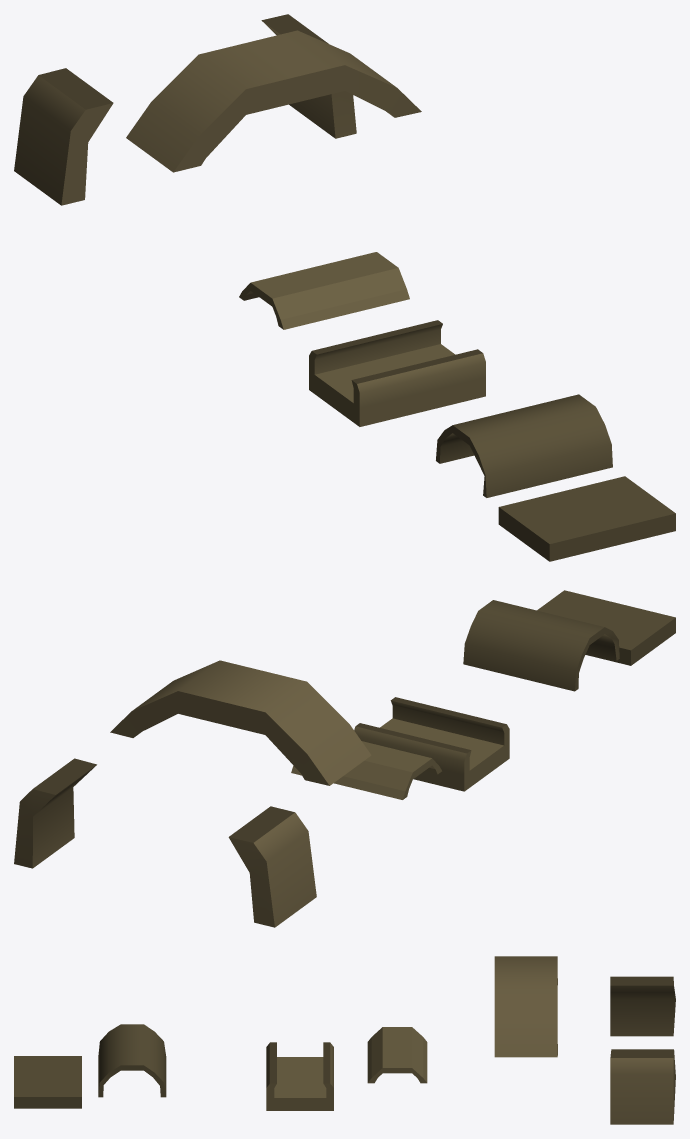
The model's file is TUNNELS10001.fbx.
3 renders of one model, top to bottom at view 1: azimuth 30°, elevation 25°; view 2: azimuth 150°, elevation 25°; view 3: azimuth 270°, elevation 25°, orthographic. The views are drawn at different scales.
Visible parts, largest first — view 1: roof, pasted__Tunnel6, tunnel, pasted__pCube19, pasted__pCube20, pasted__Tunnel5; view 2: roof, tunnel, pasted__pCube19, pasted__Tunnel6, pasted__pCube20, pasted__Tunnel5; view 3: tunnel, roof, pasted__Tunnel6, pasted__pCube20, pasted__pCube19, pasted__Tunnel5.
Part boxes in pixels (x1,y1,x2,y2): roof: (126, 30, 421, 172); pasted__Tunnel6: (309, 320, 485, 426); tunnel: (14, 14, 356, 205); pasted__pCube19: (436, 394, 612, 497); pasted__pCube20: (498, 476, 675, 561); pasted__Tunnel5: (239, 252, 409, 329); roof: (110, 660, 371, 785); tunnel: (14, 758, 316, 927); pasted__pCube19: (463, 600, 619, 691); pasted__Tunnel6: (354, 697, 509, 791); pasted__pCube20: (537, 590, 675, 665); pasted__Tunnel5: (291, 741, 441, 799); tunnel: (610, 976, 675, 1124); roof: (494, 956, 557, 1057); pasted__Tunnel6: (266, 1042, 333, 1110); pasted__pCube20: (14, 1056, 81, 1108); pasted__pCube19: (98, 1024, 166, 1097); pasted__Tunnel5: (367, 1027, 427, 1083).
Bounding box in the file's own units: 17.54 × 11.27 × 51.08.
